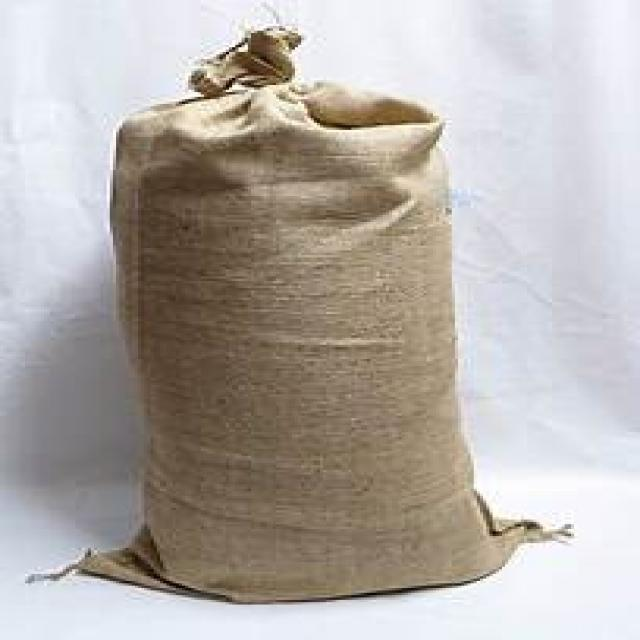gunny_bag: (61, 30, 563, 611)
